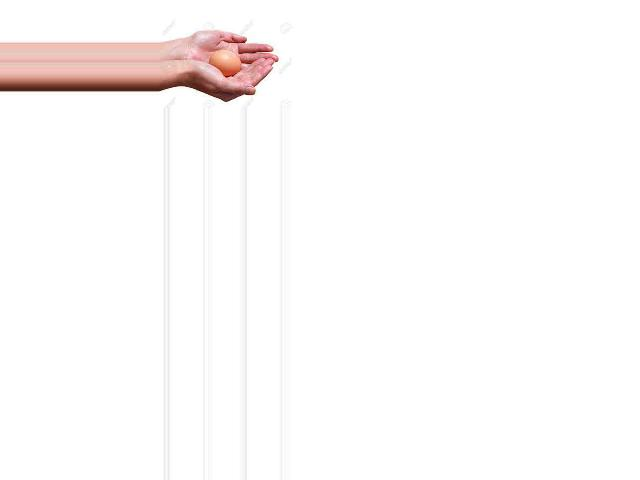egg: (211, 51, 241, 76)
